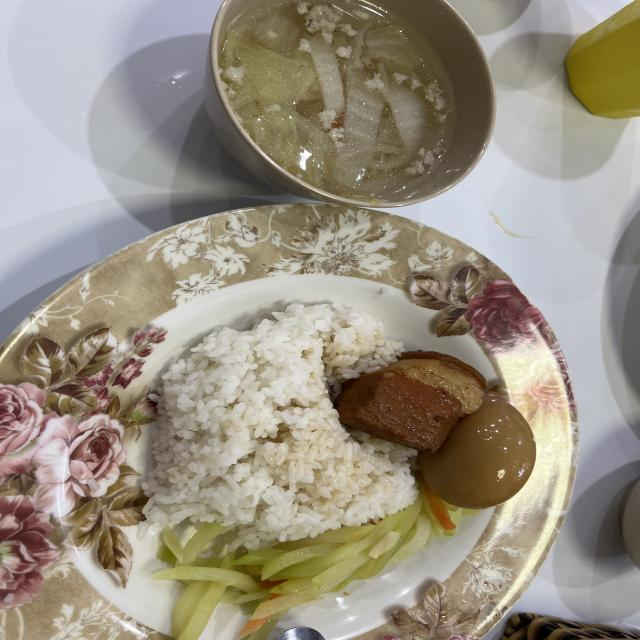canh cai: (220, 0, 452, 204)
com: (143, 303, 417, 549)
kho trung: (335, 353, 536, 509)
rau: (153, 479, 479, 640)
